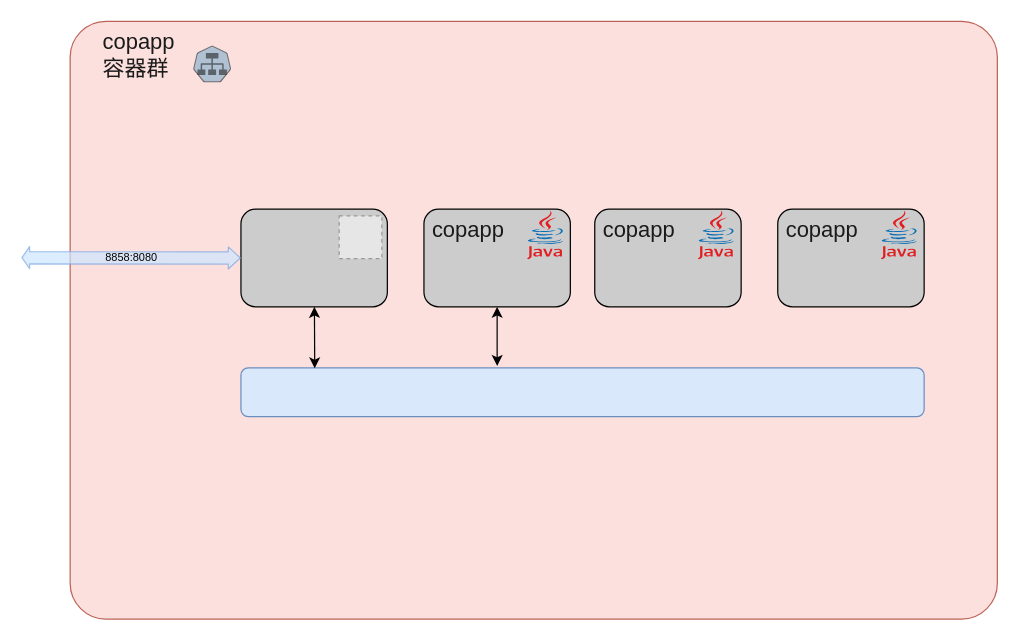
This 1019x641 diagram has some shape labels left out. Grey dashed boxes stand in for pictures. Here are the shapes that lost their labels. From the top down, the box of each, then its label:
(240, 208, 387, 307): copapp proxy
(240, 367, 924, 417): bridge
